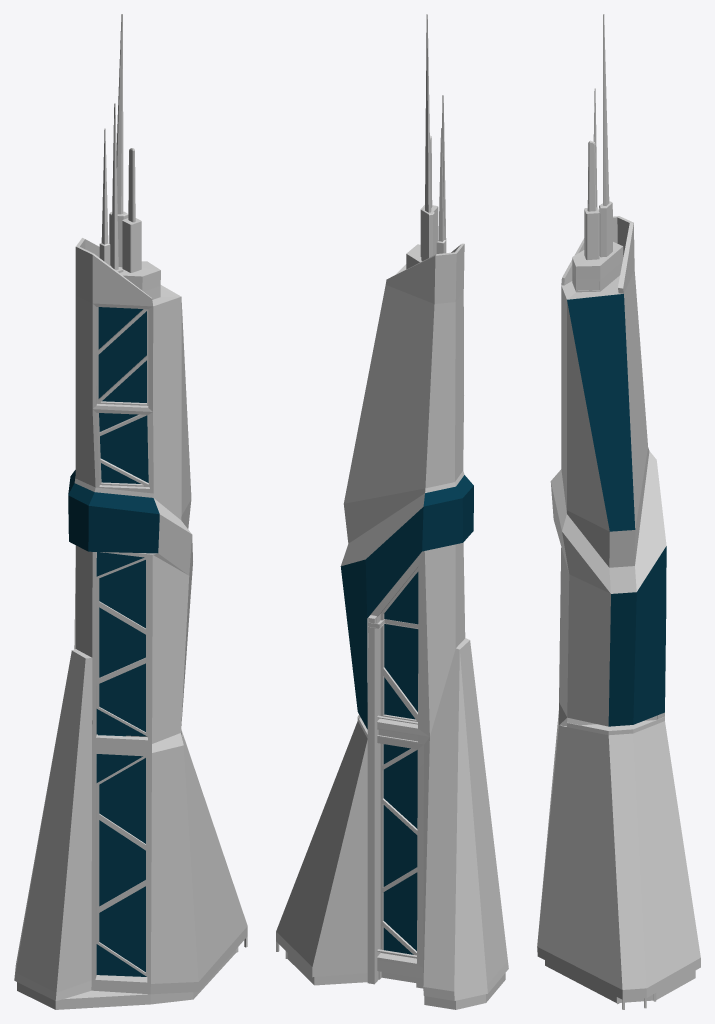
Rendered from SM_Building_07.fbx.
The picture shows the model from 3 angles, left to right: view 1: azimuth 30°, elevation 25°; view 2: azimuth 150°, elevation 25°; view 3: azimuth 270°, elevation 25°; orthographic projection. The views are drawn at different scales.
Parts seen in each view (by area): view 1: SM_Building_07; view 2: SM_Building_07; view 3: SM_Building_07.
Part boxes in pixels (left/top/right/bottom): SM_Building_07: left=14, top=14, right=247, bottom=1009; SM_Building_07: left=276, top=14, right=508, bottom=1009; SM_Building_07: left=537, top=14, right=700, bottom=1009.
Bounding box in the file's own units: 846 × 3568 × 568.
